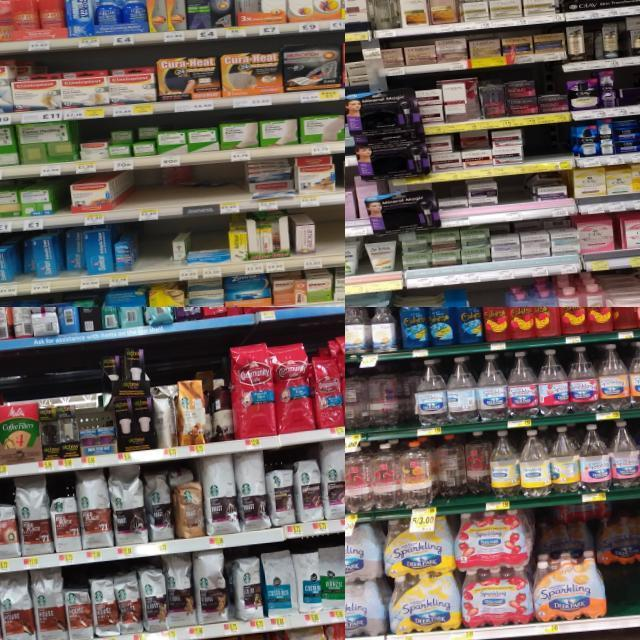empty: (163, 184, 241, 218), (525, 122, 572, 172), (605, 561, 640, 628), (315, 206, 345, 268), (144, 222, 174, 282), (136, 168, 164, 221), (497, 176, 527, 222), (471, 285, 509, 307)
